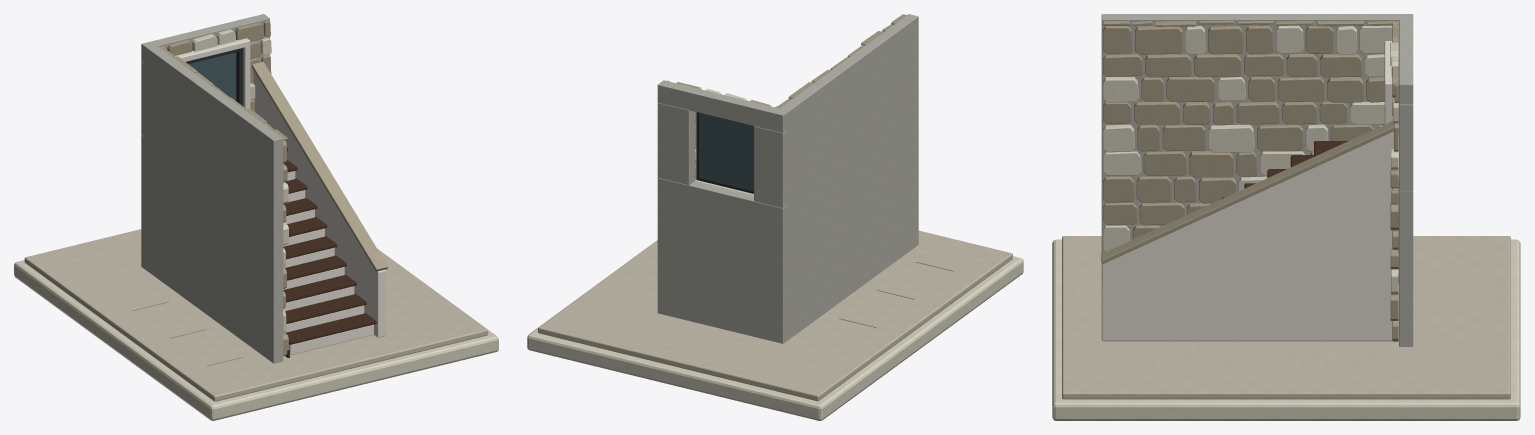
File: scala-C7DNn8AY.glb
The picture shows the model from 3 angles, left to right: view 1: azimuth 30°, elevation 25°; view 2: azimuth 150°, elevation 25°; view 3: azimuth 270°, elevation 25°; orthographic projection. The views are drawn at different scales.
Visible parts, largest first — view 1: phase_envelope__concrete, phase_foundation__paving, phase_site__limestone, phase_finish__darkwood, phase_finish__stone, phase_envelope__plaster, phase_finish__plaster, phase_finish__glass, phase_finish__limestone, phase_finish__graphite; view 2: phase_envelope__concrete, phase_foundation__paving, phase_site__limestone, phase_finish__glass, phase_finish__stone; view 3: phase_envelope__plaster, phase_foundation__paving, phase_finish__stone, phase_envelope__concrete, phase_site__limestone, phase_finish__limestone, phase_finish__plaster, phase_finish__darkwood.
Part boxes in pixels (x1,y1,x2,y2): phase_envelope__concrete: (141, 14, 283, 363); phase_foundation__paving: (24, 229, 488, 401); phase_site__limestone: (14, 250, 498, 420); phase_finish__darkwood: (283, 148, 376, 357); phase_finish__stone: (158, 20, 387, 355); phase_envelope__plaster: (253, 71, 385, 337); phase_finish__plaster: (175, 38, 373, 353); phase_finish__glass: (188, 52, 236, 100); phase_finish__limestone: (191, 29, 288, 332); phase_finish__graphite: (186, 48, 243, 105); phase_envelope__concrete: (657, 14, 918, 343); phase_foundation__paving: (538, 230, 1012, 401); phase_site__limestone: (527, 240, 1023, 420); phase_finish__glass: (699, 112, 754, 191); phase_finish__stone: (667, 14, 906, 176); phase_envelope__plaster: (1101, 131, 1395, 341); phase_foundation__paving: (1062, 236, 1510, 399); phase_finish__stone: (1101, 20, 1398, 341); phase_envelope__concrete: (1101, 14, 1413, 346); phase_site__limestone: (1052, 239, 1520, 420); phase_finish__limestone: (1103, 25, 1398, 294); phase_finish__plaster: (1384, 41, 1392, 124); phase_finish__darkwood: (1221, 141, 1398, 283).
Bounding box in the file's own units: 4.65 × 3.8 × 5.55.
Materials: 9 (5 with a texture image).
